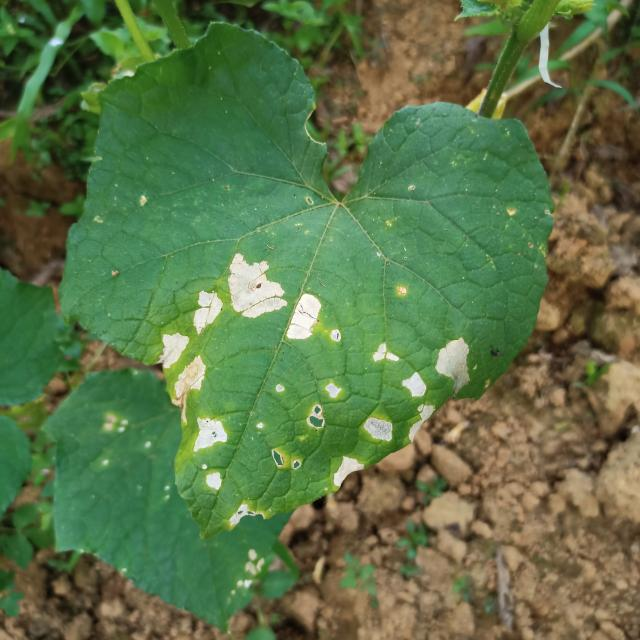disease_cucumber: (225, 249, 319, 345), (371, 335, 473, 403), (158, 330, 206, 401), (194, 414, 227, 494), (364, 404, 433, 442), (191, 285, 225, 338), (310, 381, 342, 432), (331, 453, 364, 490)
